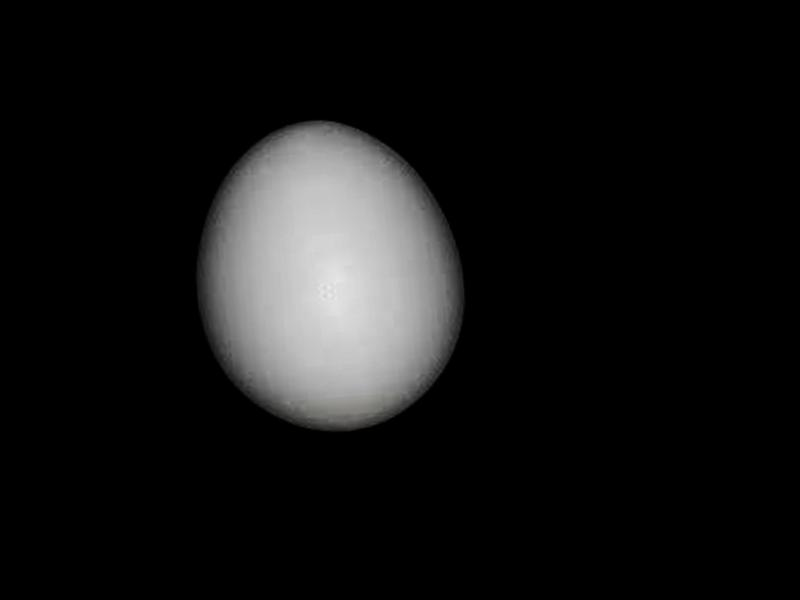Eggs: (183, 111, 474, 441)
